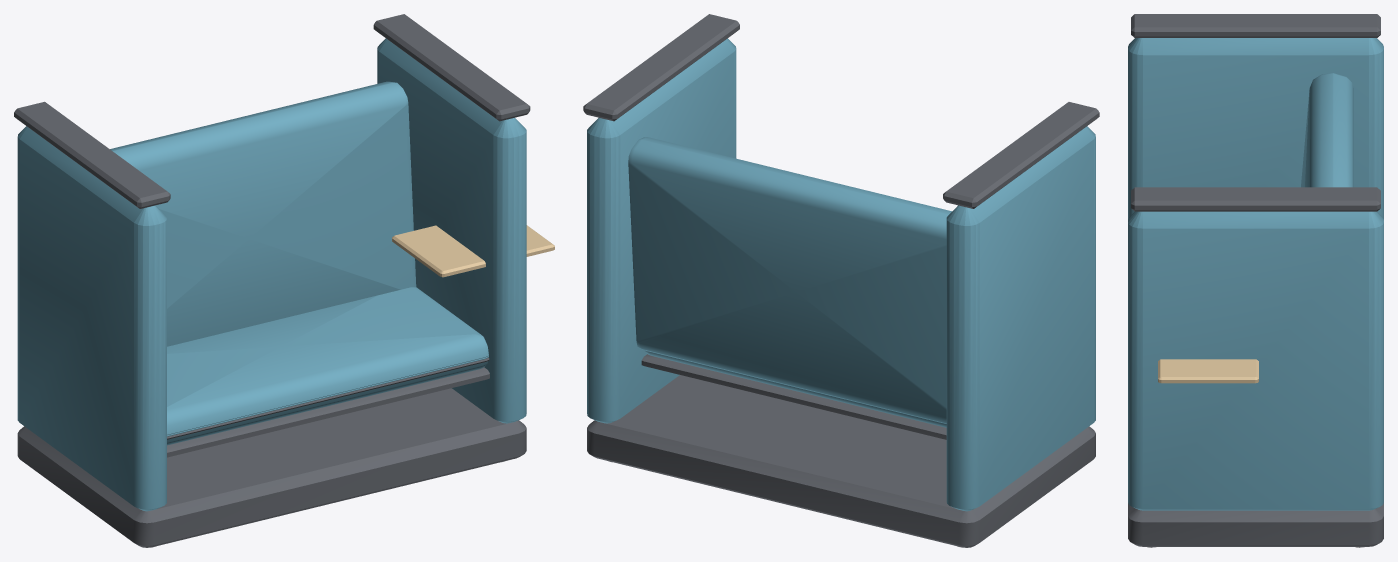
The model's file is university-lecture-hall-and-campus-soft-seating-pod-tw-7e3509a4__34764.glb.
The picture shows the model from 3 angles, left to right: view 1: azimuth 30°, elevation 25°; view 2: azimuth 150°, elevation 25°; view 3: azimuth 270°, elevation 25°; orthographic projection.
Visible parts, largest first — view 1: soft-seating-pod-two-seat; view 2: soft-seating-pod-two-seat; view 3: soft-seating-pod-two-seat.
Boxes of the visible parts, bbox=[...] form: soft-seating-pod-two-seat: bbox=[14, 14, 554, 547]; soft-seating-pod-two-seat: bbox=[583, 14, 1099, 547]; soft-seating-pod-two-seat: bbox=[1128, 14, 1383, 547].
Size of the model in its own units: 1.65 by 1.31 by 0.86.
